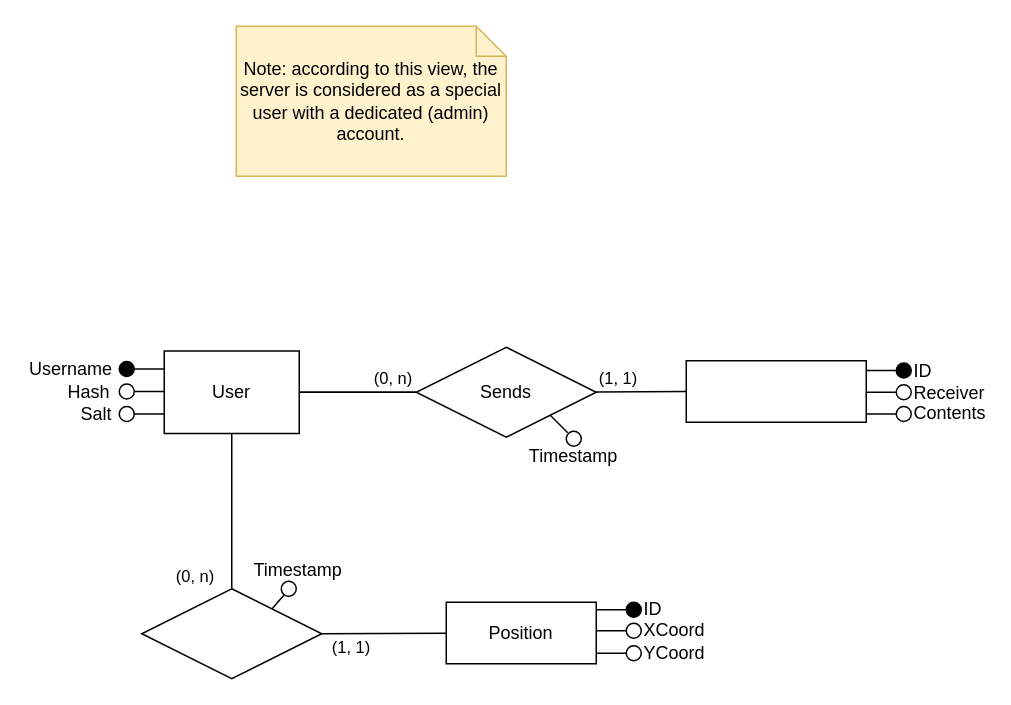
Image size: 1011x705. Some labels were removed from this diagram. The shapes that lost their labels are listed below. From the top down, each one's centre as x and y in pixels, then its label:
At point (775, 390): "Message".
At point (231, 633): "Updates".
